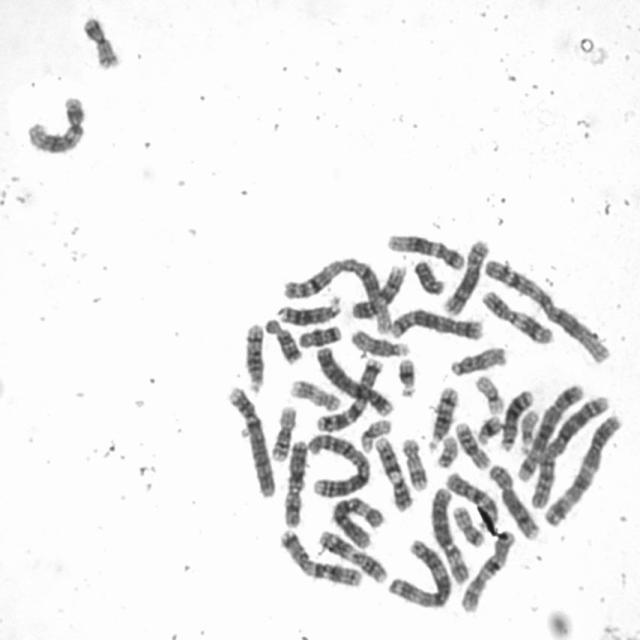A1: (478, 252, 614, 365), (277, 252, 396, 334)
A2: (528, 394, 614, 514), (301, 427, 372, 499)
A3: (538, 407, 624, 528), (382, 534, 453, 610)
B4: (223, 380, 277, 500), (312, 341, 396, 417)
B5: (513, 378, 586, 483), (385, 303, 486, 341)
C10: (455, 525, 518, 615), (442, 466, 502, 531)
C11: (476, 282, 556, 346), (314, 524, 391, 585)
C12: (21, 90, 88, 156), (381, 227, 467, 272)
C6: (426, 481, 473, 585), (327, 491, 386, 549)
C7: (311, 352, 385, 433), (274, 524, 365, 589)
C8: (483, 459, 542, 541), (438, 234, 491, 316)
C9: (346, 259, 408, 320), (370, 430, 415, 513)
D13: (496, 384, 537, 452), (273, 290, 343, 326)
D14: (423, 381, 461, 453), (239, 316, 266, 395)
D15: (445, 340, 508, 378), (346, 324, 412, 358)
E16: (451, 416, 492, 471), (265, 400, 299, 462)
E17: (284, 373, 343, 412), (398, 433, 430, 492)
E18: (260, 312, 304, 365), (294, 320, 343, 350)
F19: (470, 369, 506, 415), (356, 413, 393, 454)
F20: (77, 10, 122, 70), (448, 500, 486, 548)
G21: (393, 351, 419, 398), (472, 409, 504, 446)
G22: (515, 404, 541, 454), (431, 430, 459, 470)
X: (279, 434, 309, 528)
Y: (410, 253, 448, 296)
